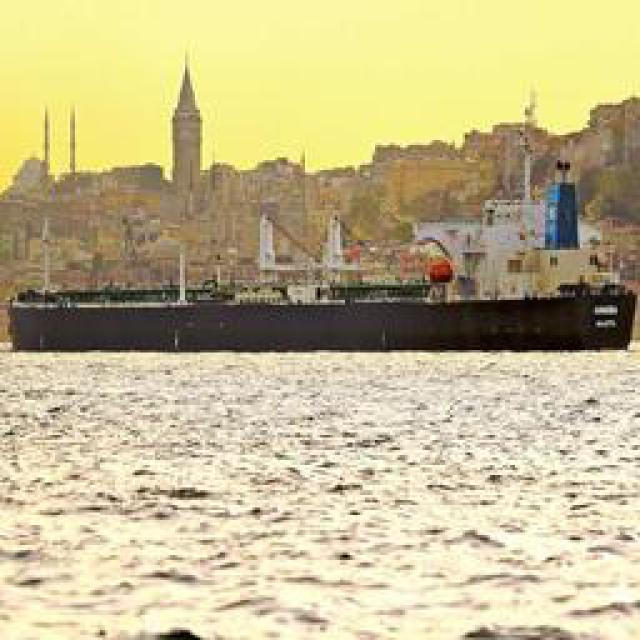Ship: (7, 268, 625, 353)
